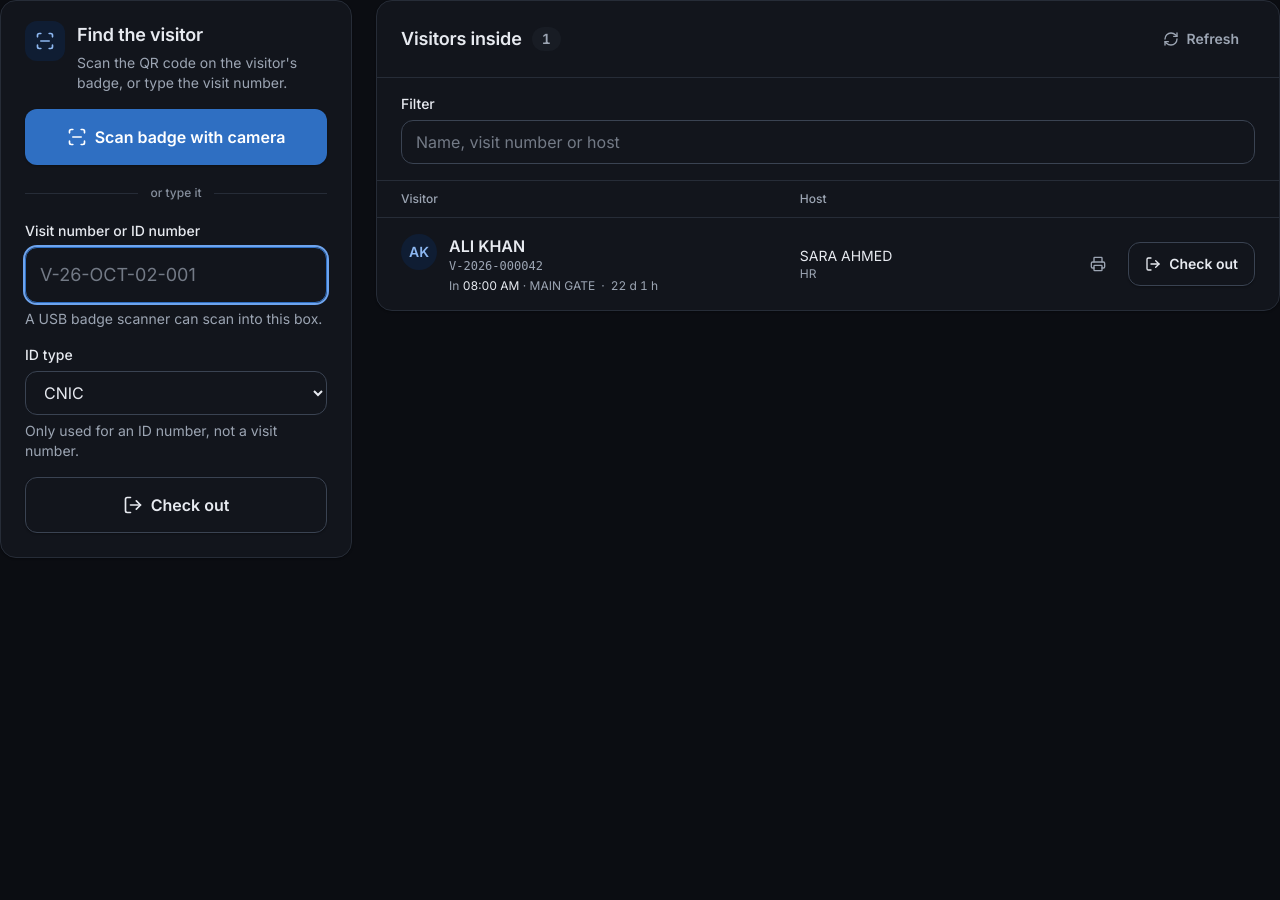
Test: CheckOutDesk › lists visitors inside and checks one out after confirmation
Expected: the text "Ali Khan" is shown, [449,236,525,256]
Click the button with aria-label "Check out Ali Khan (V-2026-000042)" at (1192, 264), box [1128,242,1255,286]
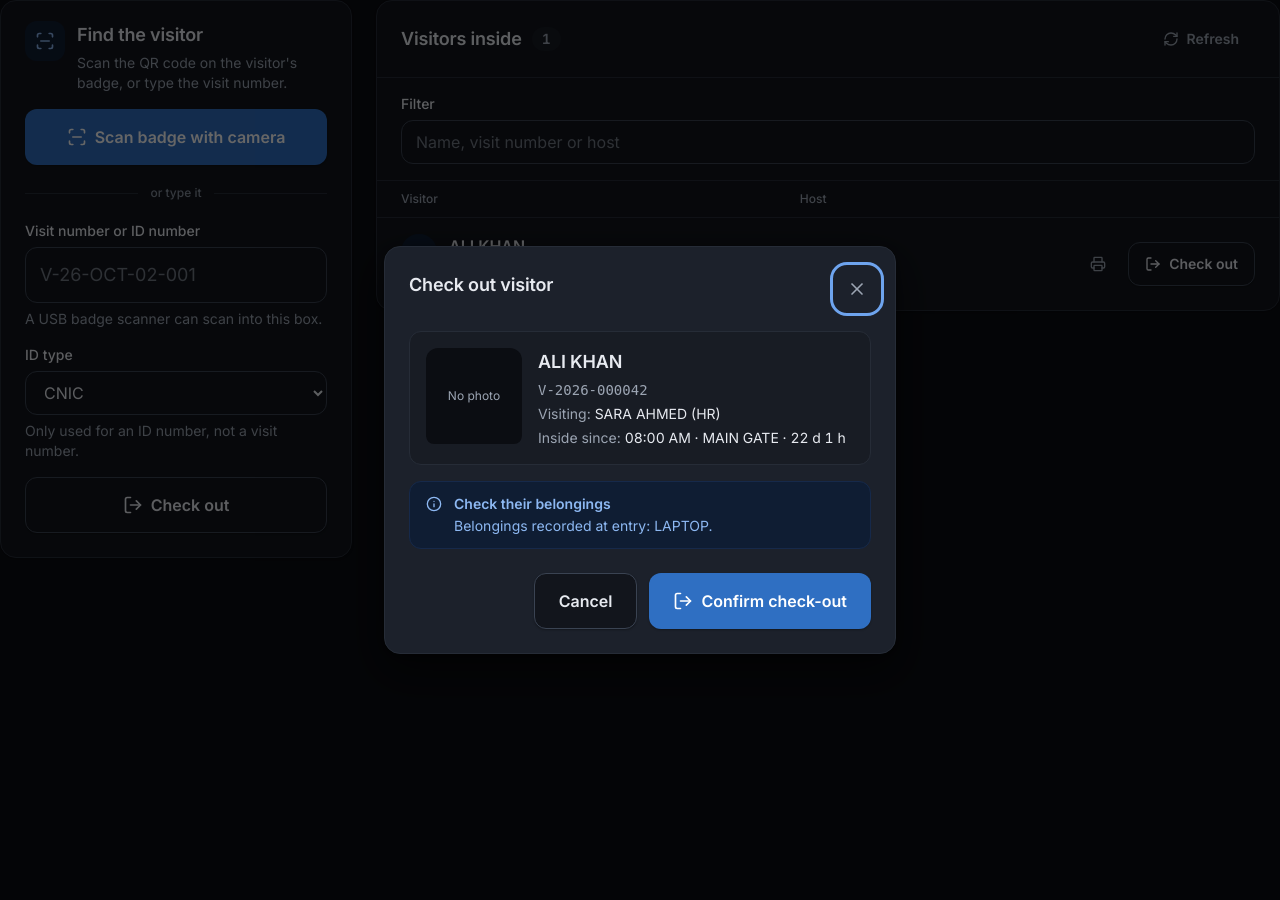
Click the button "Confirm check-out" at (760, 601), box [649,573,871,629]
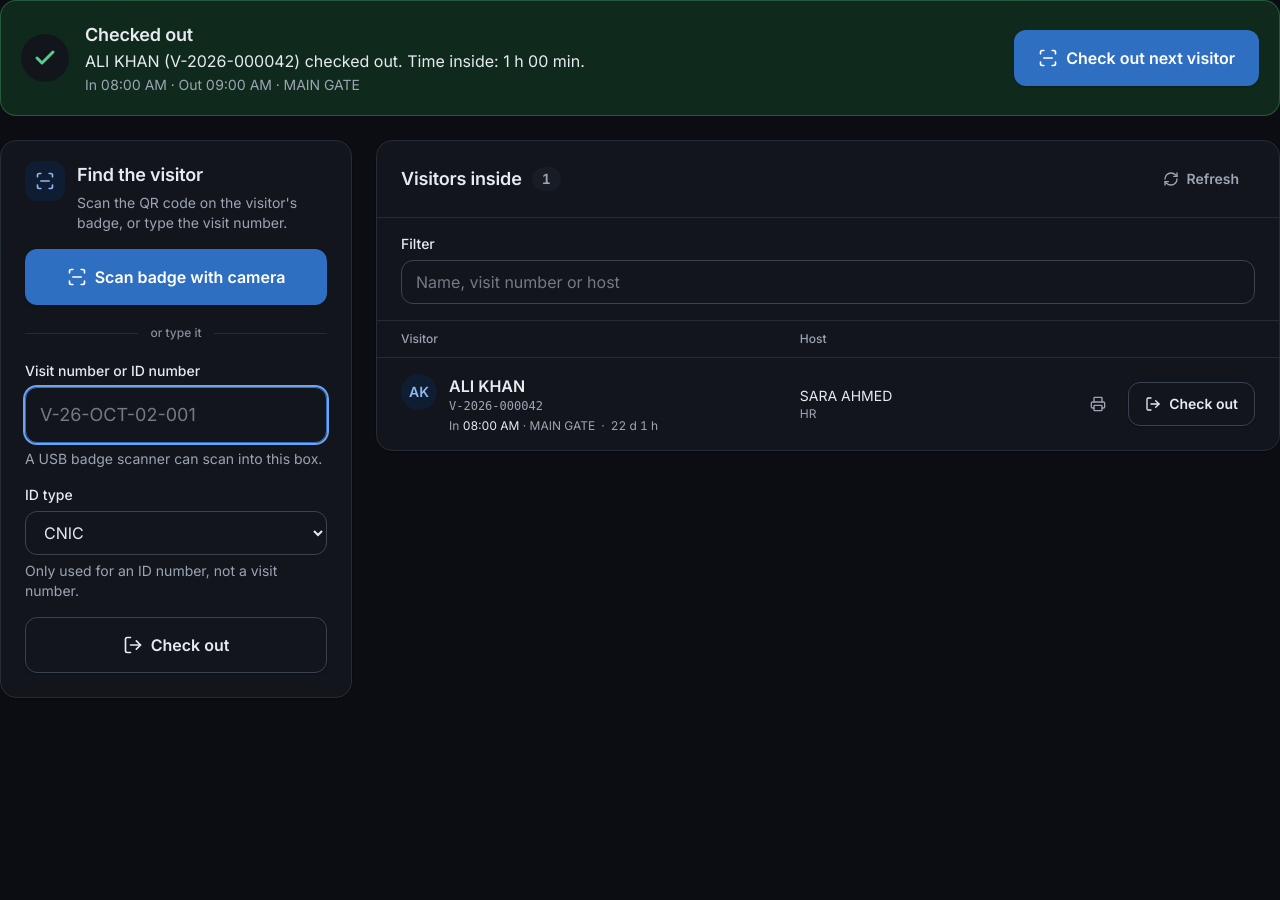
Result: the text "checked out. Time inside: 1 h 00 min" is shown at [85,51,585,71]
